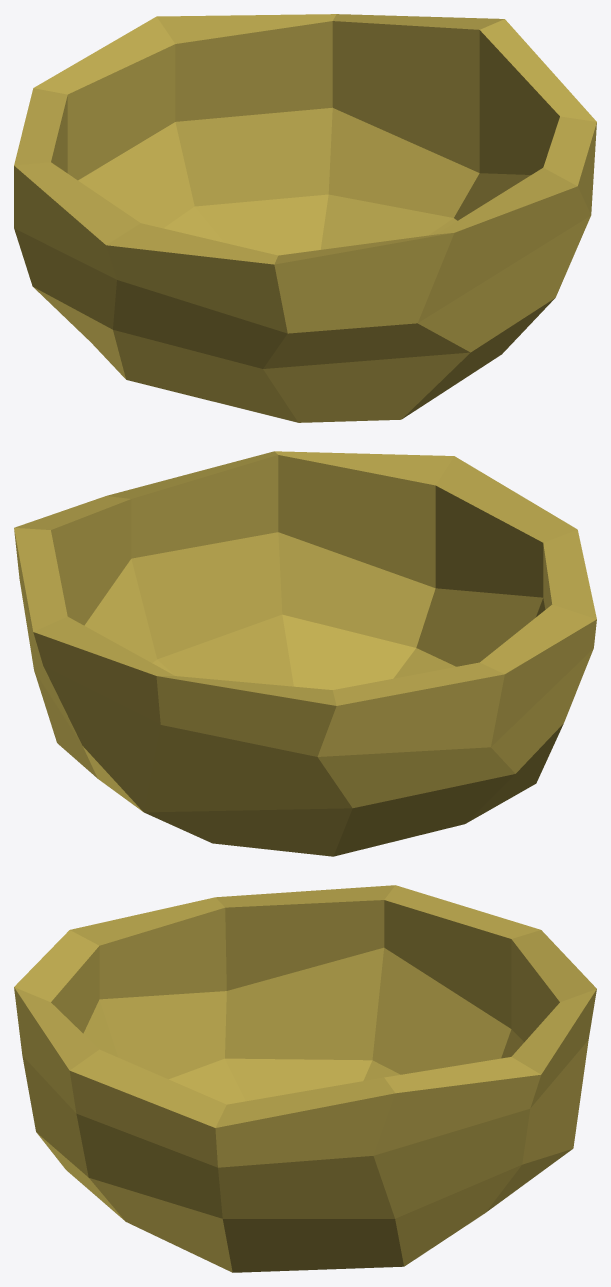
Rendered from Nest_1.fbx.
3 renders of one model, top to bottom at view 1: azimuth 30°, elevation 25°; view 2: azimuth 150°, elevation 25°; view 3: azimuth 270°, elevation 25°, orthographic. The views are drawn at different scales.
Parts seen in each view (by area): view 1: Nest_mesh; view 2: Nest_mesh; view 3: Nest_mesh.
Part boxes in pixels (x1,y1,x2,y2): Nest_mesh: [14, 14, 596, 422]; Nest_mesh: [14, 451, 596, 856]; Nest_mesh: [14, 885, 596, 1272].
Size of the model in its own units: 17.74 by 8.16 by 18.44.
